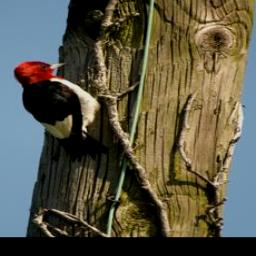Woodpecker: (11, 60, 122, 163)
